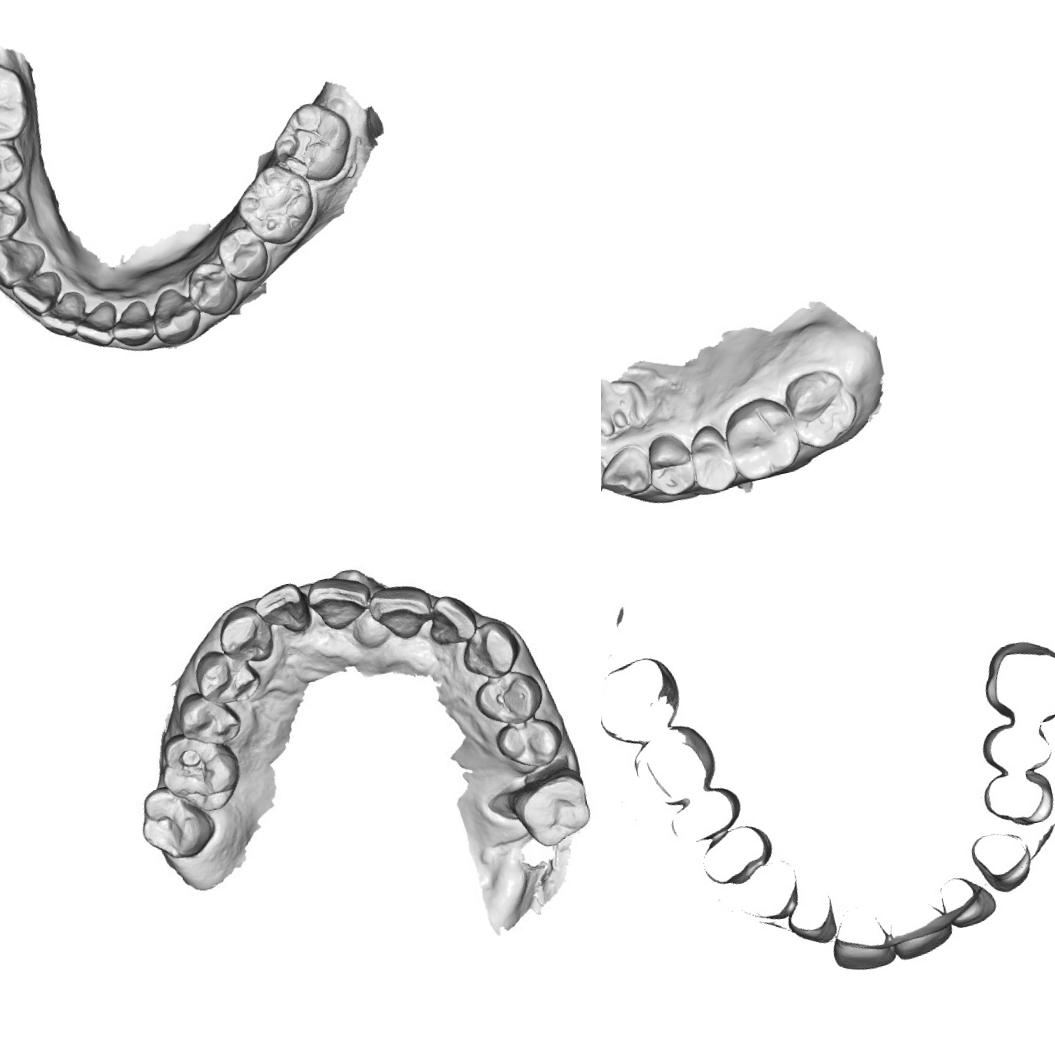canine: (146, 280, 205, 349), (216, 602, 275, 669), (601, 438, 659, 506), (455, 615, 518, 673), (0, 230, 56, 291)
incisor: (362, 580, 434, 645), (306, 570, 374, 637), (417, 591, 481, 654), (103, 292, 162, 356), (30, 285, 92, 344), (66, 294, 123, 354), (7, 264, 68, 320), (255, 577, 309, 636)
inlay: (269, 115, 337, 183)
molar: (225, 155, 324, 254), (778, 360, 868, 456), (716, 390, 806, 486), (509, 770, 601, 856), (162, 730, 246, 813), (134, 785, 208, 866), (0, 53, 44, 156)
premolar: (638, 425, 702, 502), (188, 644, 260, 710), (682, 418, 740, 498), (182, 254, 246, 323), (472, 675, 545, 735), (495, 708, 564, 769), (212, 224, 274, 289), (178, 690, 238, 752), (0, 136, 33, 200), (0, 184, 32, 247)
